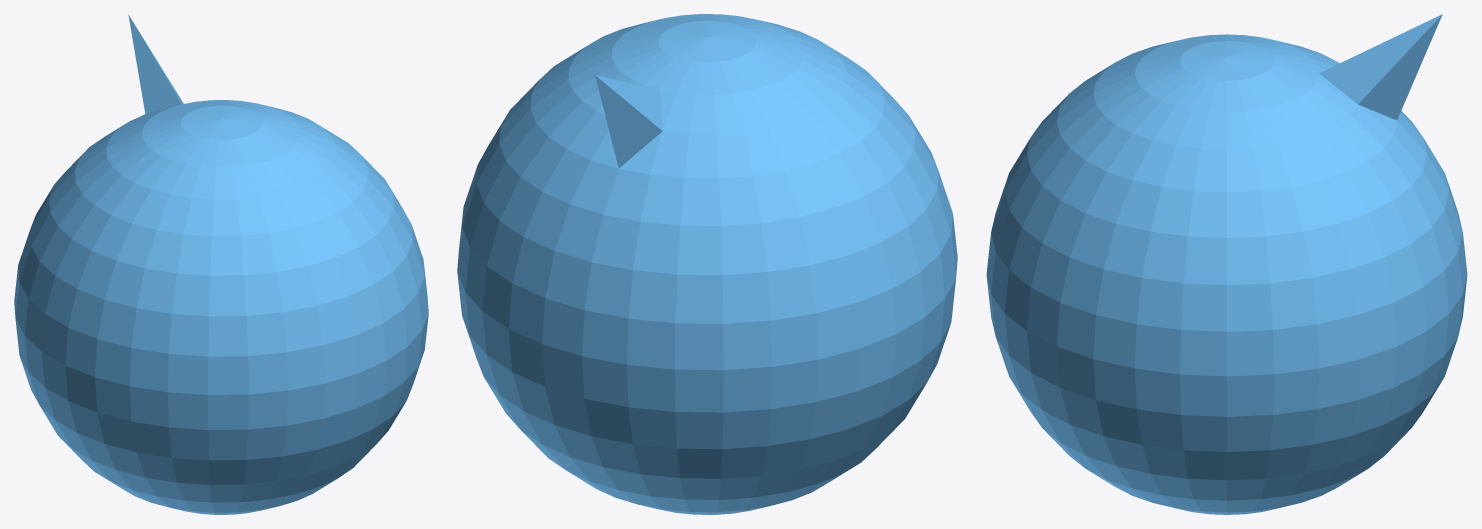
Rendered from Player.obj.
3 views of the same model, side by side, from view 1: azimuth 30°, elevation 25°; view 2: azimuth 150°, elevation 25°; view 3: azimuth 270°, elevation 25° (orthographic). The views are drawn at different scales.
Visible parts, largest first — view 1: 球; view 2: 球; view 3: 球.
Part boxes in pixels (bbox=[...]): 球: bbox=[14, 14, 428, 514]; 球: bbox=[457, 14, 957, 514]; 球: bbox=[986, 14, 1467, 514].
Size of the model in its own units: 2 by 2.2 by 2.
1 material, 1 textured.
